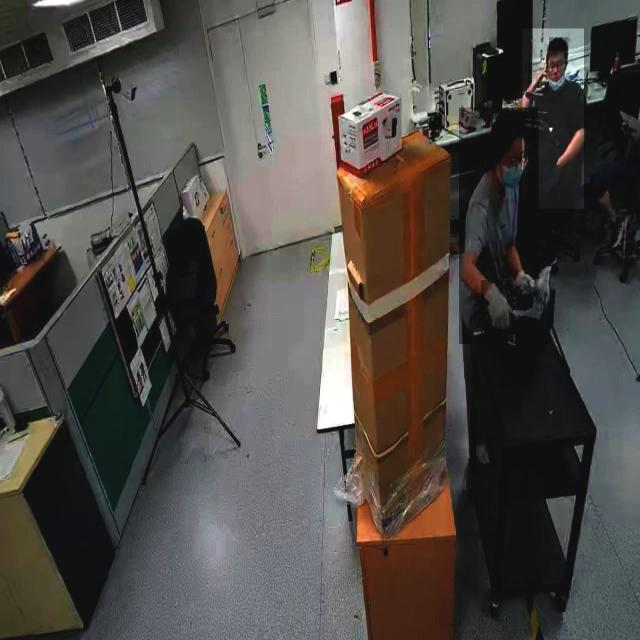face_mask: (497, 132, 528, 199)
hand_glove: (481, 280, 513, 342)
hand_noglove: (527, 62, 549, 94)
head_nohelmet: (491, 107, 526, 137), (548, 38, 568, 52)
person: (458, 107, 538, 345), (522, 28, 584, 210)
